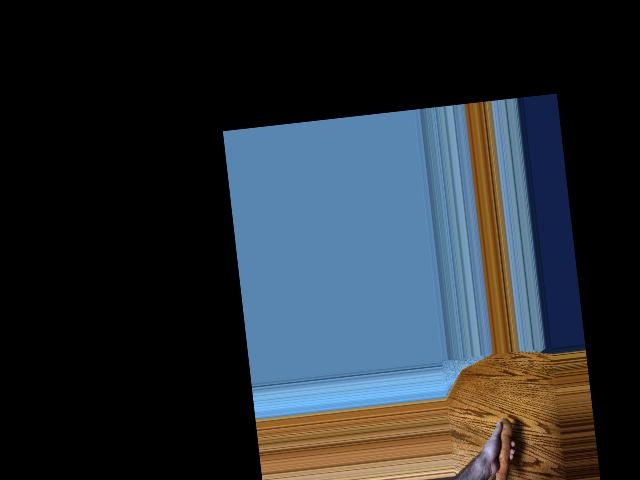sweet_potato: (486, 418, 520, 480)
